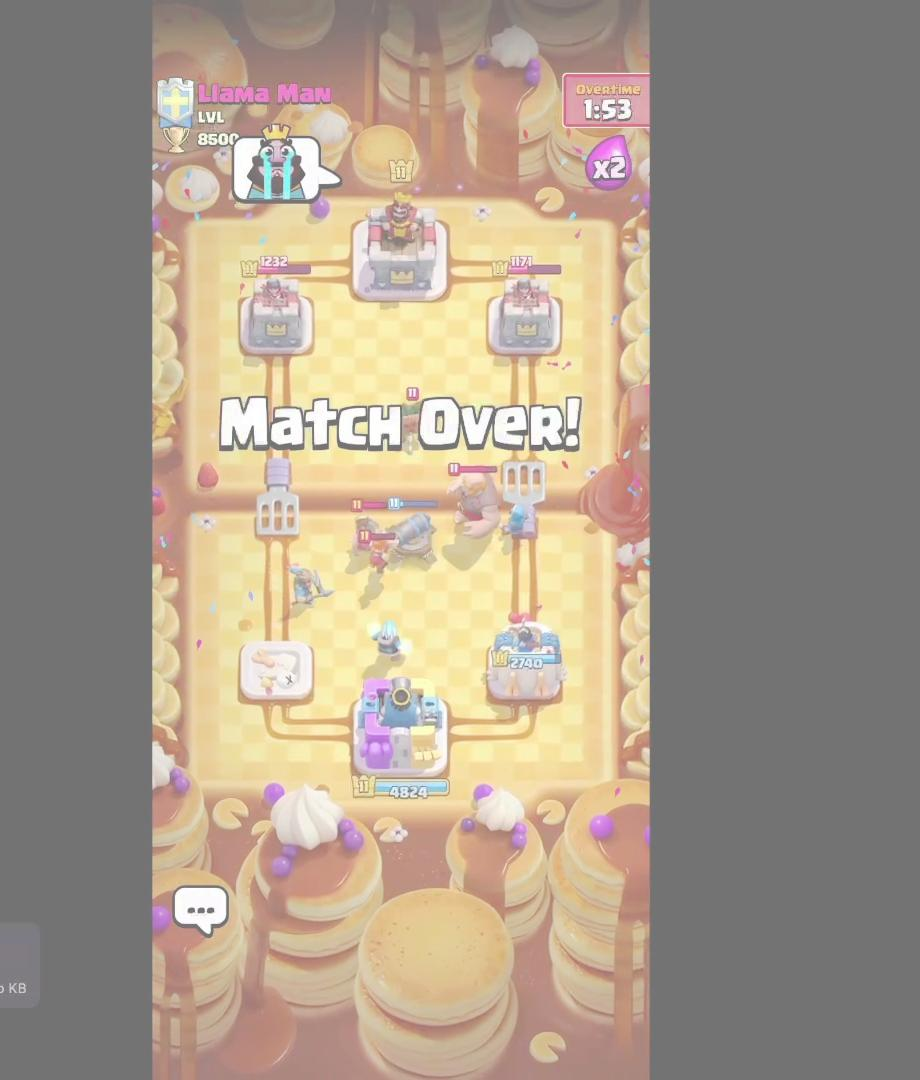Dart Goblin: (390, 383, 449, 459)
Giant: (439, 460, 503, 542)
Hog Rider: (347, 494, 389, 555)
Valkyrie: (360, 529, 398, 575)
